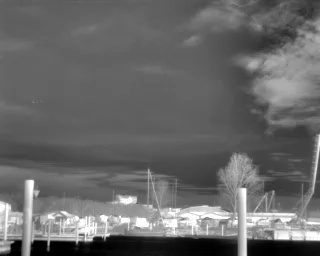BIRD: (30, 99, 36, 106)
